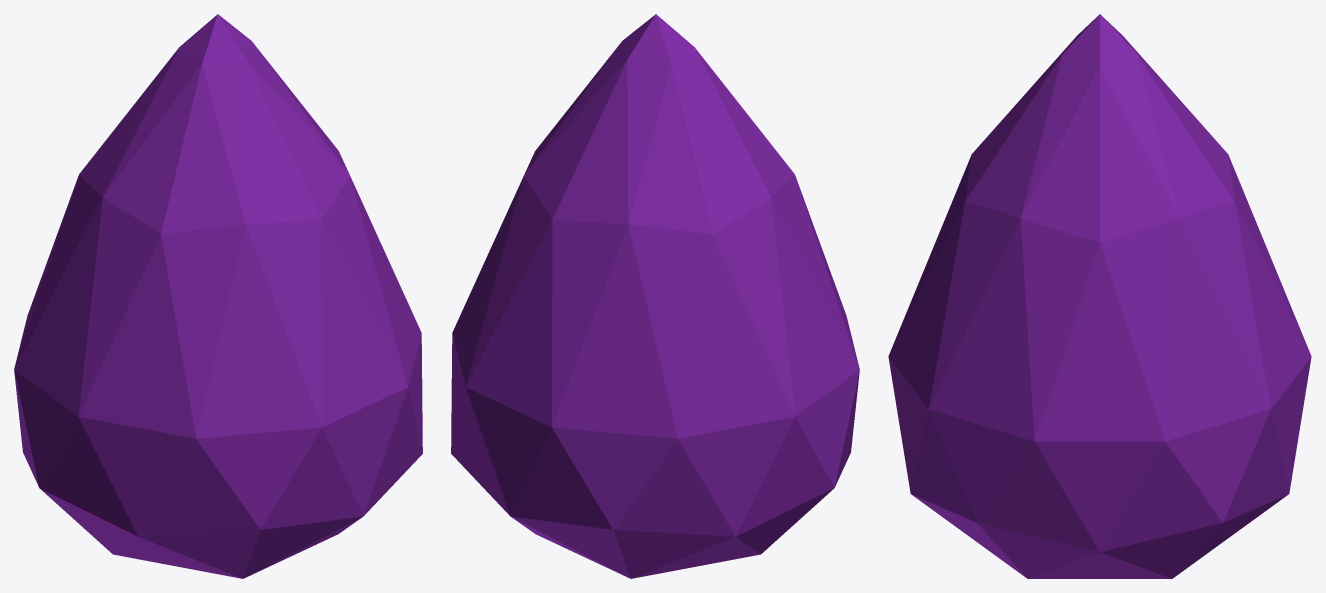
File: Essence.fbx
3 views of the same model, side by side, from view 1: azimuth 30°, elevation 25°; view 2: azimuth 150°, elevation 25°; view 3: azimuth 270°, elevation 25° (orthographic).
Parts seen in each view (by area): view 1: Essence; view 2: Essence; view 3: Essence.
Boxes of the visible parts, <box> form: Essence: <box>14,14,422,578</box>; Essence: <box>451,14,859,578</box>; Essence: <box>888,14,1311,578</box>.
Size of the model in its own units: 175 by 261 by 181.
